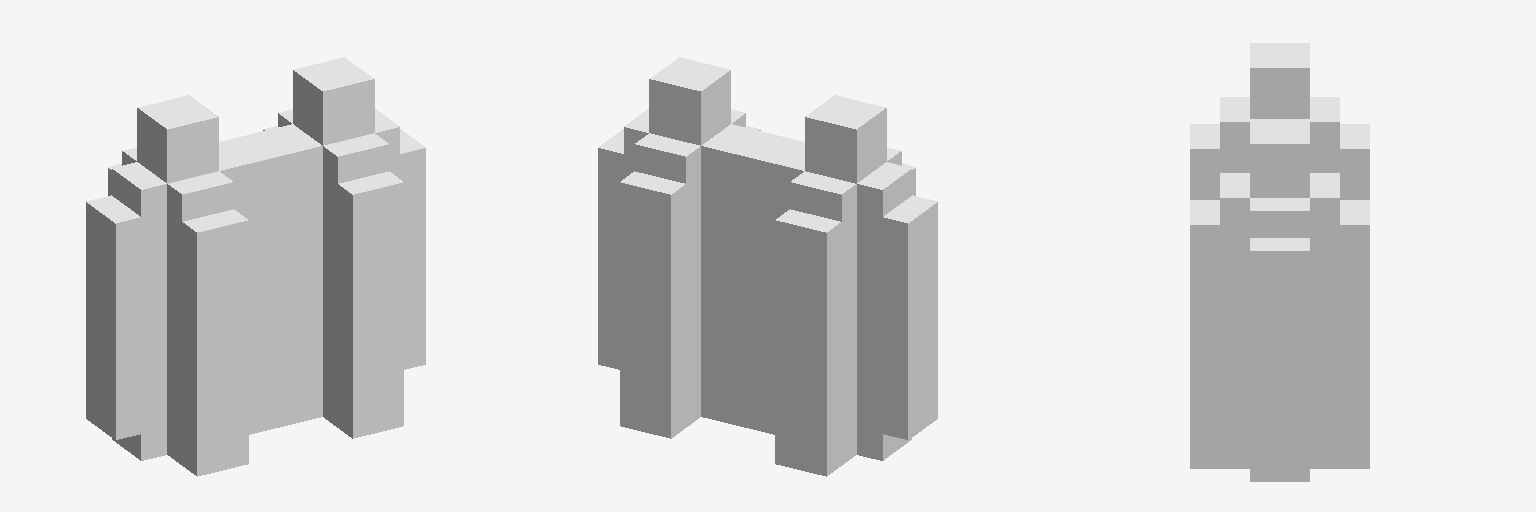
The model's file is Jetpack.obj.
3 views of the same model, side by side, from view 1: azimuth 30°, elevation 25°; view 2: azimuth 150°, elevation 25°; view 3: azimuth 270°, elevation 25° (orthographic).
Visible parts, largest first — view 1: object 1; view 2: object 1; view 3: object 1.
Boxes of the visible parts, box(x1,y1,x2,y2) form: object 1: box(86, 57, 425, 476); object 1: box(598, 57, 937, 476); object 1: box(1190, 43, 1369, 481).
Bounding box in the file's own units: 1.2 × 1.2 × 0.6.